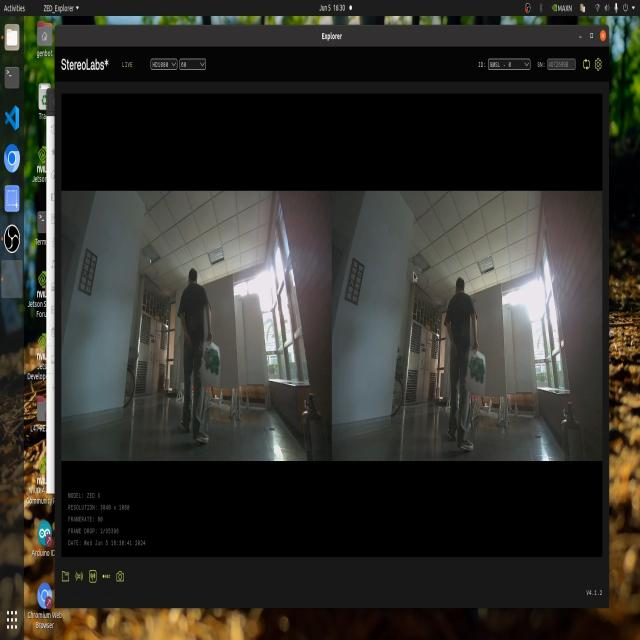green: (202, 339, 232, 386), (468, 351, 488, 390)
